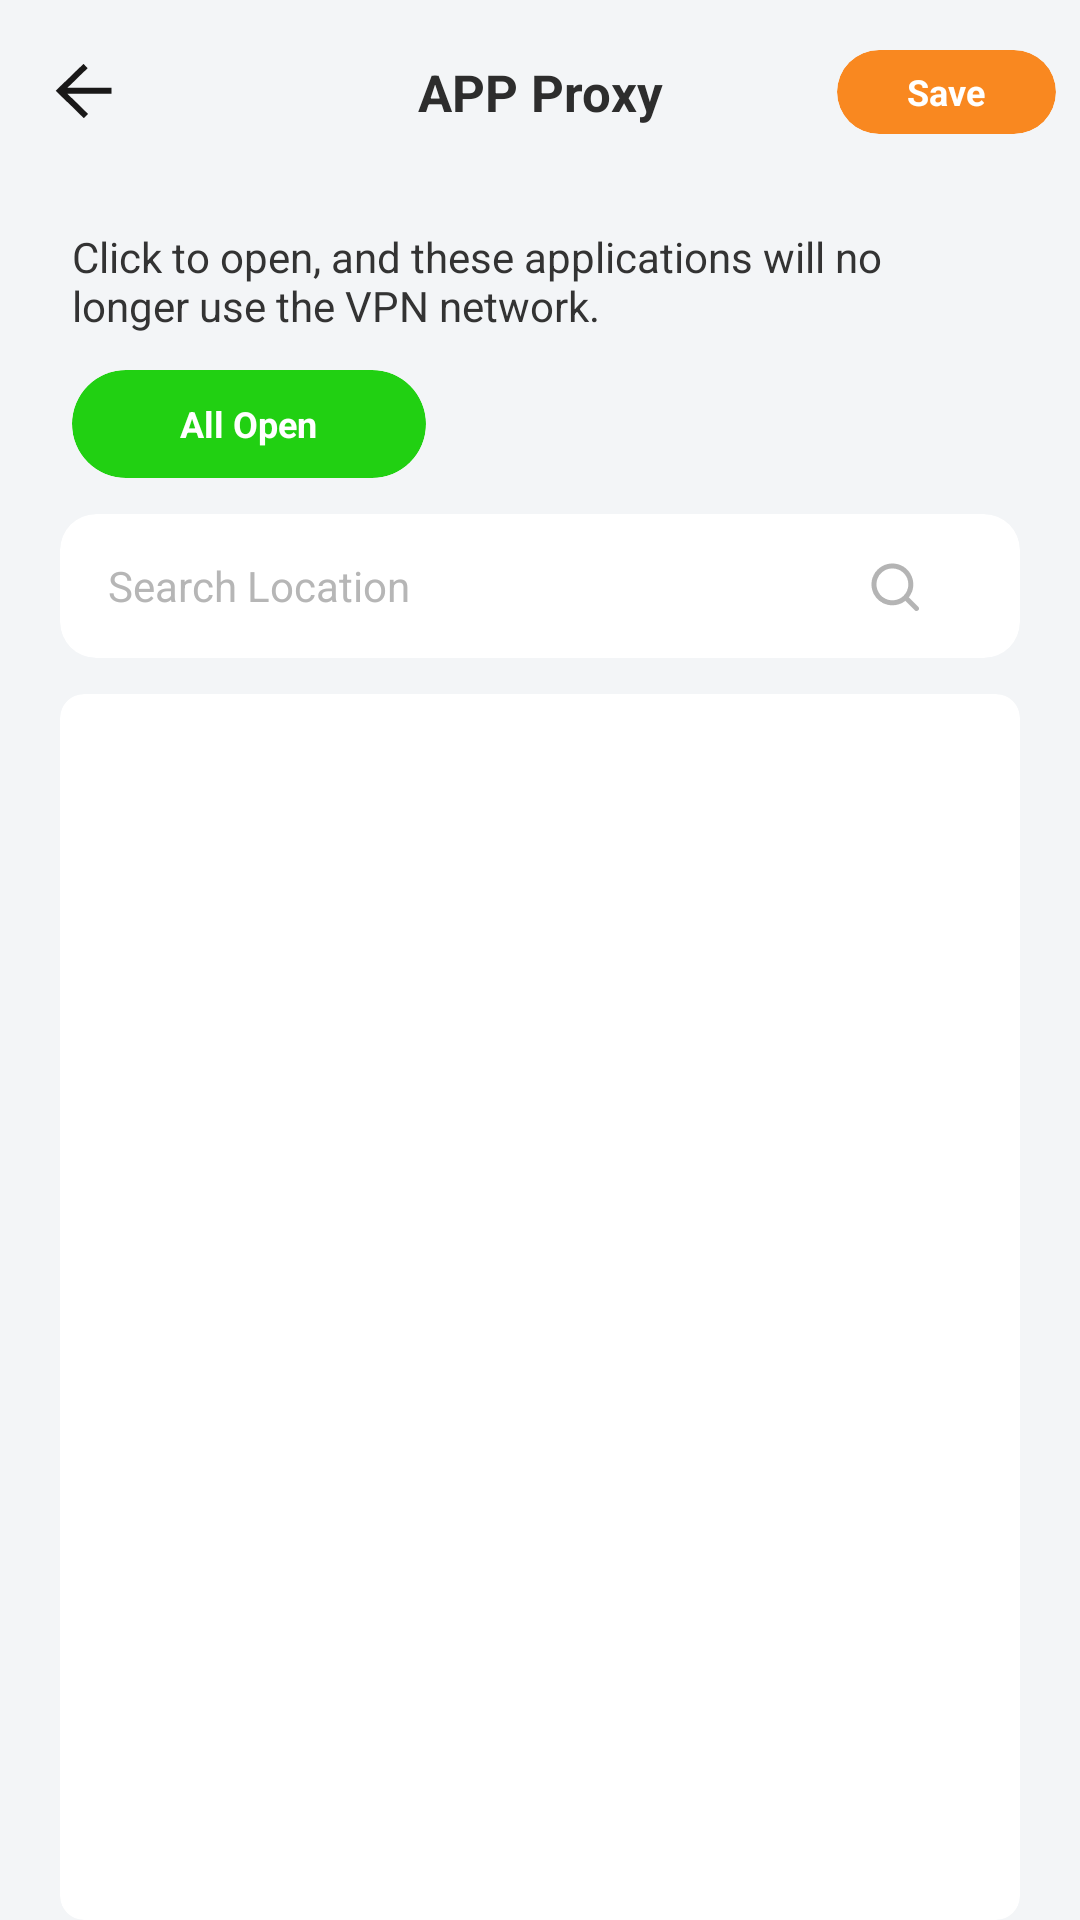

Icon click points for this 1080x1920 phone screenshot, format (x,y):
impel return: (84,91)
impel search: (895,587)
